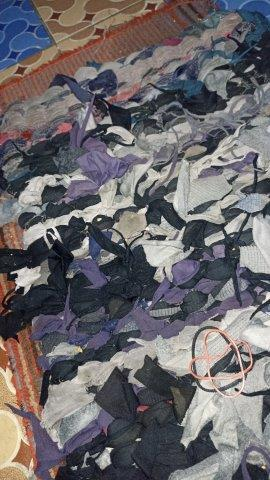karet: (189, 325, 254, 399)
